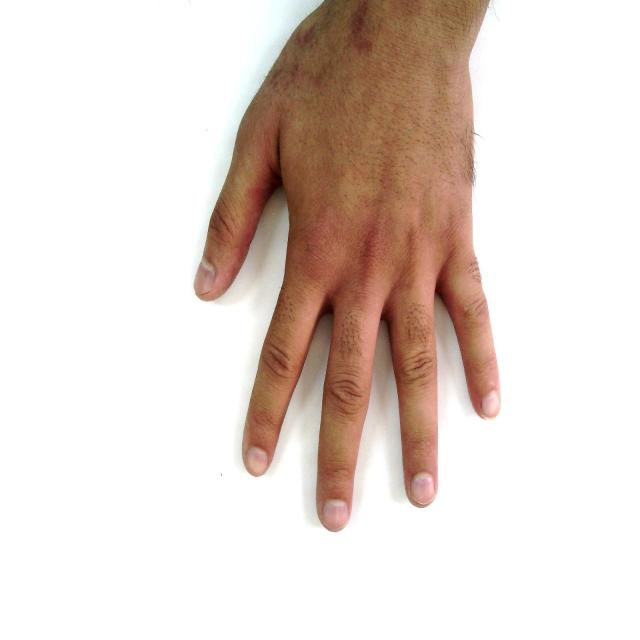Nail: (193, 255, 216, 297), (322, 500, 350, 532), (410, 473, 436, 506), (244, 447, 268, 477), (482, 390, 501, 418)
